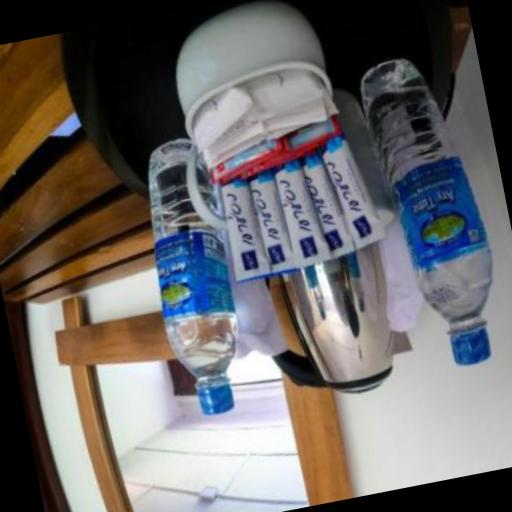Coca: (346, 41, 512, 383), (126, 126, 272, 432)
